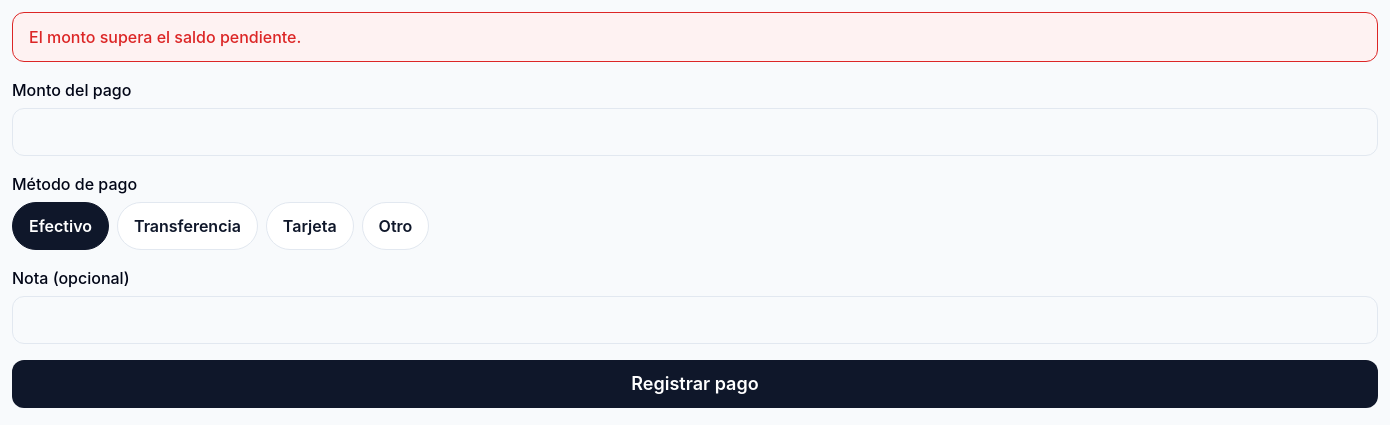
Test case: PaymentForm › hides the stale server error banner while a current field error is showing
This screenshot has width=1390, height=425.
Step 1. Click the button "Registrar pago" → (695, 384), box x1=12 y1=360 x2=1378 y2=408
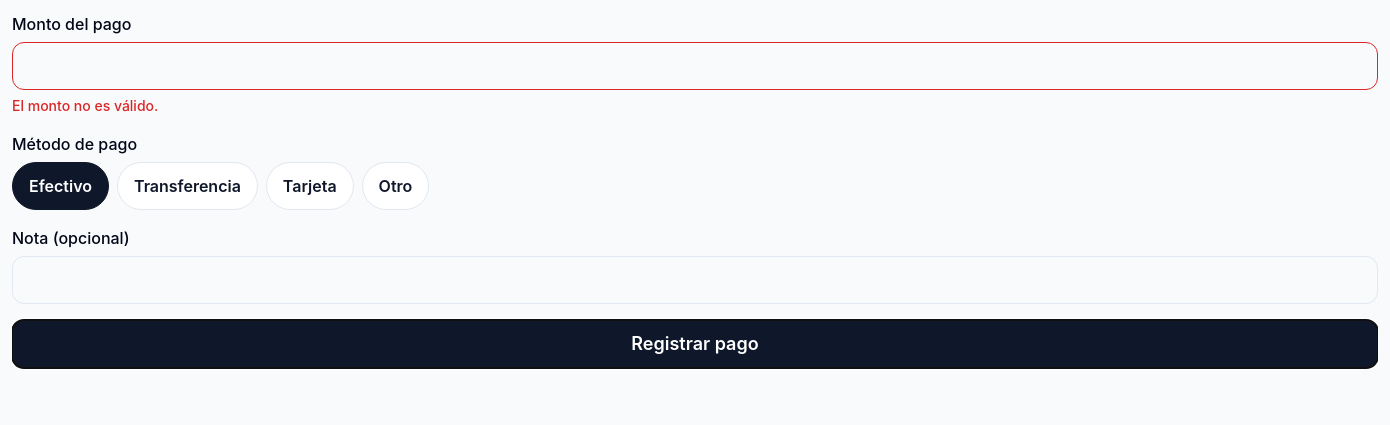
Now the text "El monto no es válido." is shown, box x1=12 y1=97 x2=158 y2=114
Now the text "El monto supera el saldo pendiente." is gone
